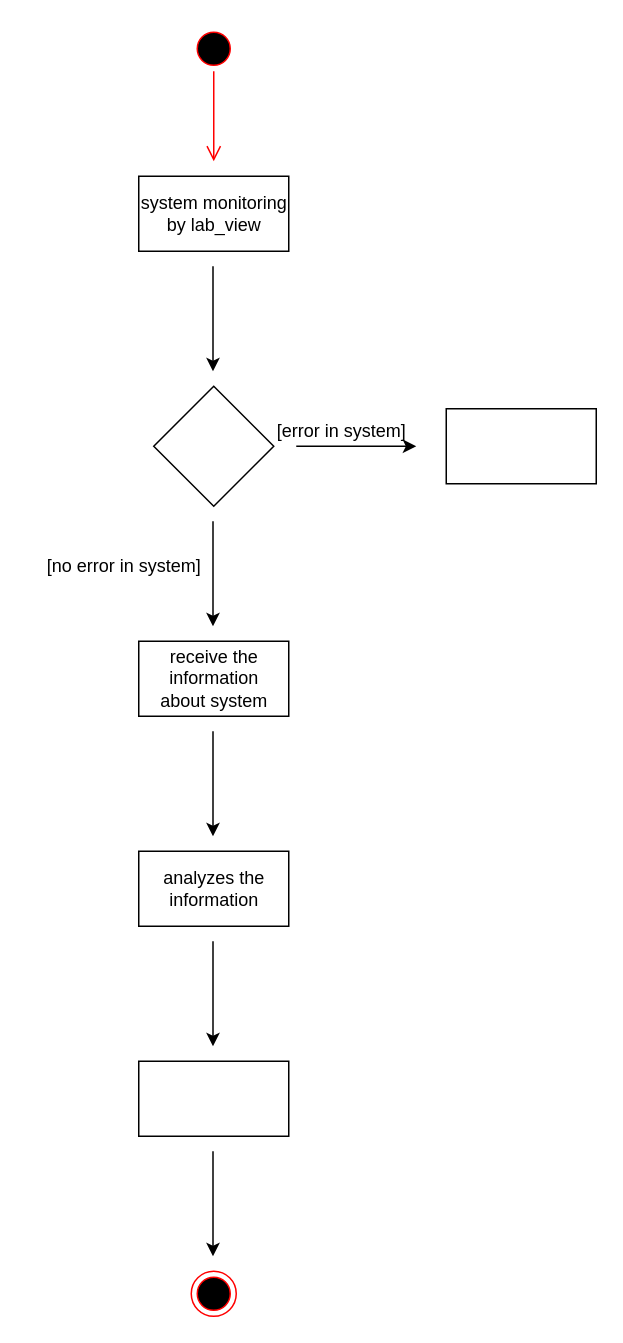
Image size: 623x1343. Some labels were removed from this diagram. The centre of each missing label's shape, as x and y in pixels:
present the information to user: pixel 213 1098
prompt warning message to user: pixel 520 445
